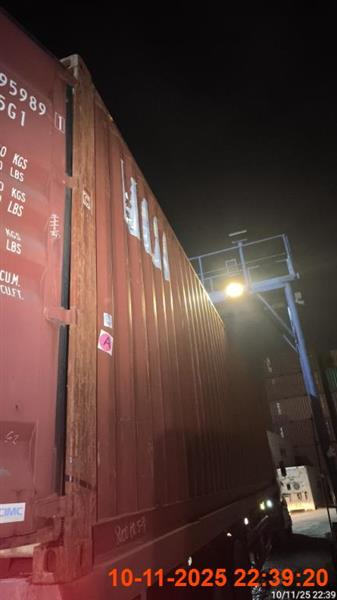hole: (1, 9, 294, 599), (1, 10, 293, 597)
